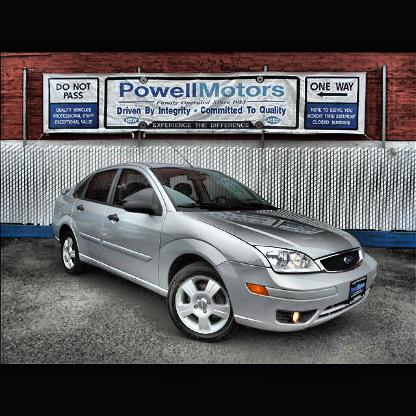Ford Focus Sedan 2007: (54, 164, 379, 346)
